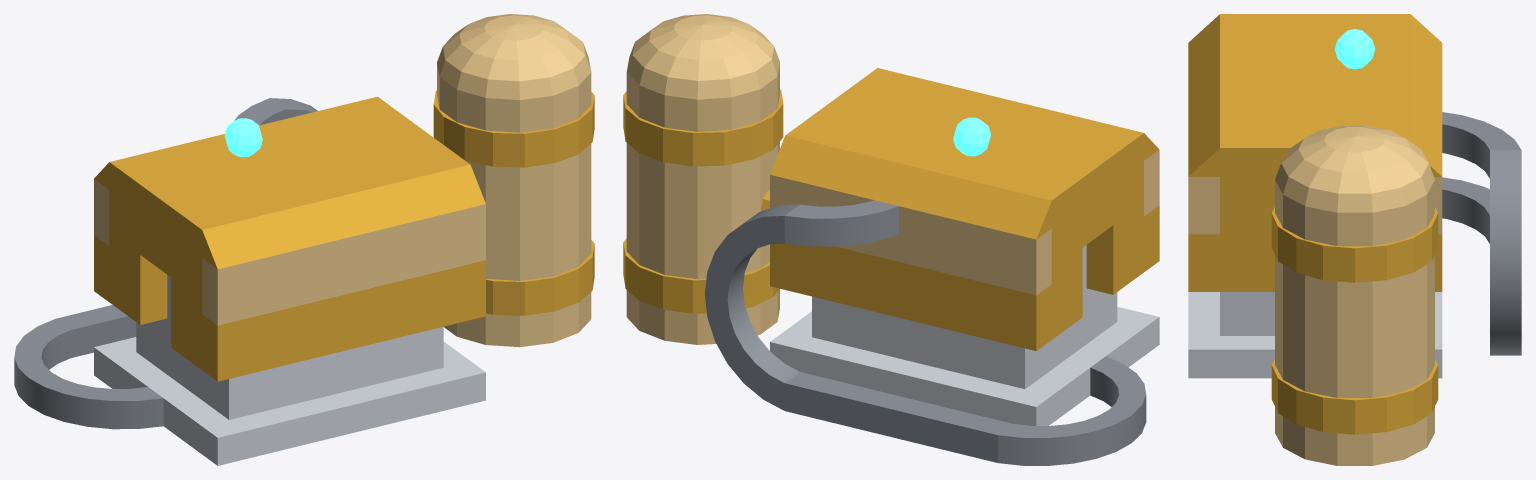
The model's file is moxie-n2.glb.
The picture shows the model from 3 angles, left to right: view 1: azimuth 30°, elevation 25°; view 2: azimuth 150°, elevation 25°; view 3: azimuth 270°, elevation 25°; orthographic projection. The views are drawn at different scales.
Parts seen in each view (by area): view 1: machine_generator, Cylinder, cable, Sphere, Cylinder.002, Cylinder.001, Sphere.001; view 2: machine_generator, cable, Cylinder, Sphere, Cylinder.002, Cylinder.001, Sphere.001; view 3: machine_generator, Cylinder, cable, Sphere, Cylinder.002, Cylinder.001, Sphere.001.
Part boxes in pixels (box(x1,y1,x2,y2)): machine_generator: box(94, 96, 485, 465); Cylinder: box(437, 63, 591, 347); cable: box(14, 98, 317, 429); Sphere: box(437, 14, 591, 99); Cylinder.002: box(433, 90, 594, 167); Cylinder.001: box(486, 240, 594, 315); Sphere.001: box(224, 118, 262, 157); machine_generator: box(770, 68, 1159, 425); cable: box(704, 200, 1146, 465); Cylinder: box(626, 64, 779, 344); Sphere: box(626, 14, 779, 99); Cylinder.002: box(623, 89, 783, 166); Cylinder.001: box(623, 238, 779, 313); Sphere.001: box(953, 117, 990, 156); machine_generator: box(1188, 14, 1442, 378); Cylinder: box(1275, 180, 1434, 465); cable: box(1442, 112, 1521, 355); Sphere: box(1275, 125, 1434, 212); Cylinder.002: box(1271, 207, 1438, 282); Cylinder.001: box(1271, 359, 1438, 434); Sphere.001: box(1334, 29, 1375, 69).
Size of the model in its own units: 0.985 by 0.5156 by 0.525.
